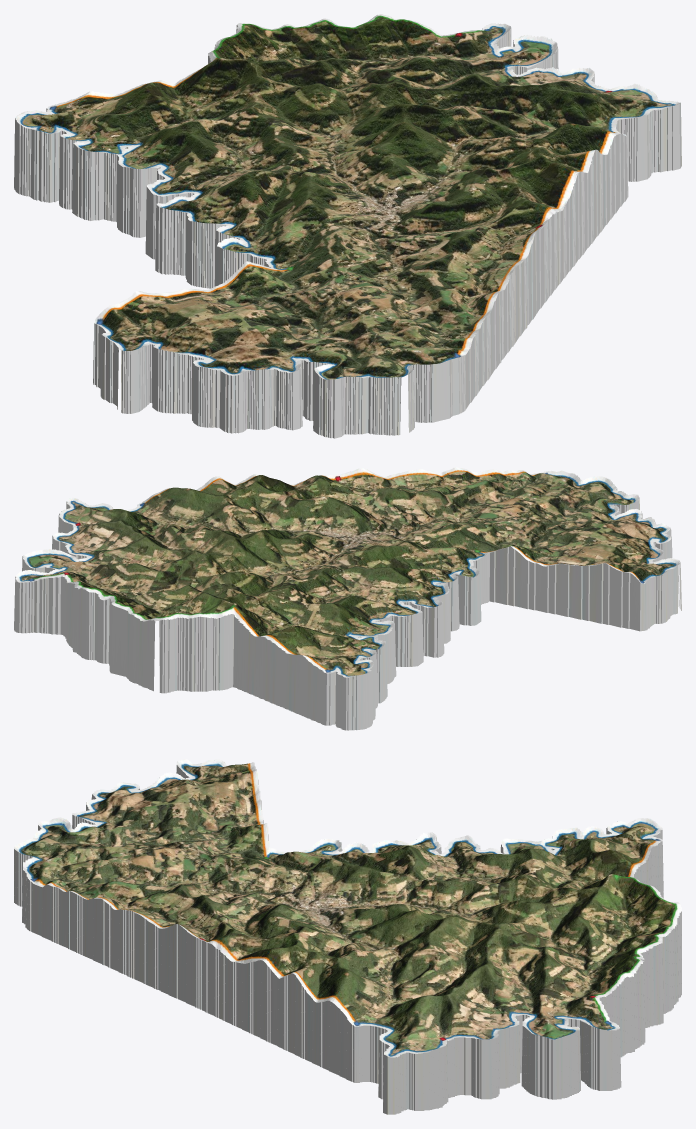
The picture shows the model from 3 angles, top to bottom: view 1: azimuth 30°, elevation 25°; view 2: azimuth 150°, elevation 25°; view 3: azimuth 270°, elevation 25°; orthographic projection. The views are drawn at different scales.
Bounding box in the file's own units: 1 × 0.1414 × 0.944.
1 material, 1 textured.
